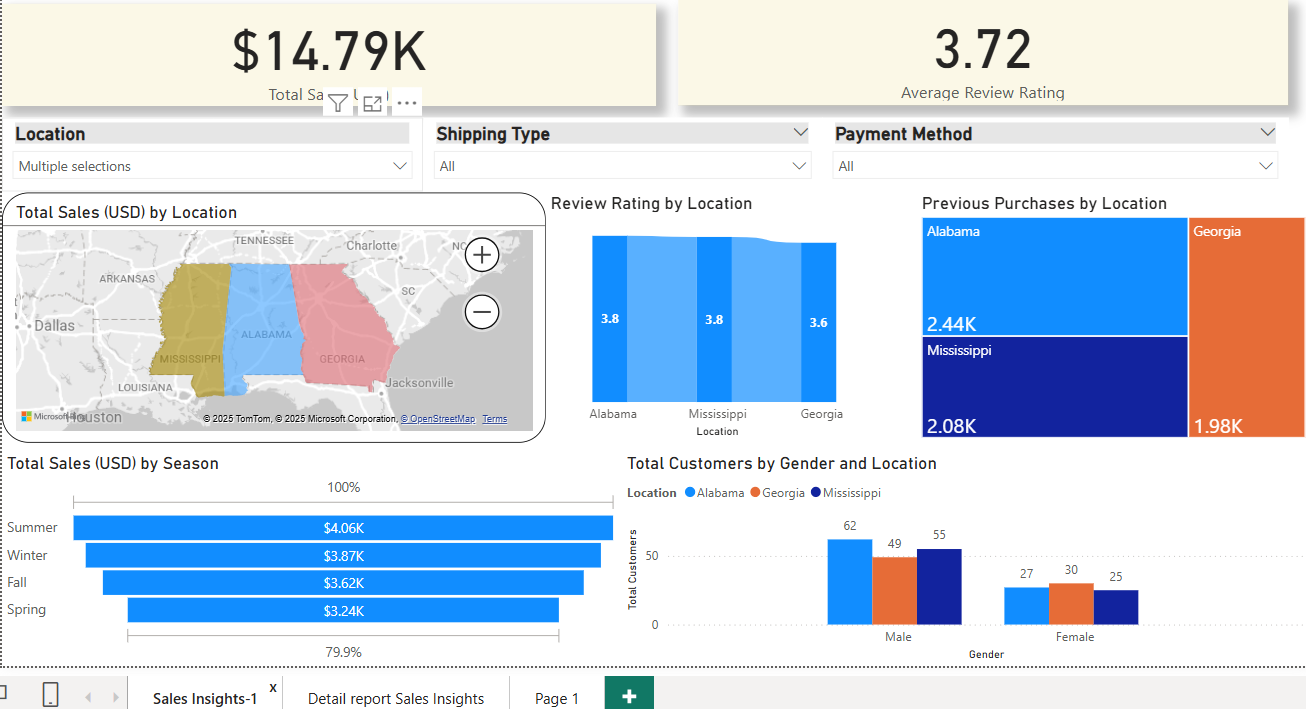

What the dashboard file says about the page in this screenshot:
{"tool":"powerbi","page":{"name":"Sales Insights-1","canvas":[1280,720],"ordinal":0},"visuals":[{"type":"textbox","box":[275.3,0,773.4,70.9],"z":0},{"type":"card","fields":{"Values":["Sum(INFO 5550 Project Data.Purchase Amount (USD))"]},"box":[0,71.7,640,100],"z":1000},{"type":"card","fields":{"Values":["Avg(INFO 5550 Project Data.Review Rating)"]},"box":[661.7,68.3,596.7,103.3],"z":2000},{"type":"filledMap","title":"Total Sales (USD) by Location","fields":{"Category":["INFO 5550 Project Data.Location"]},"box":[0,256.7,531.7,245],"z":3000},{"type":"ribbonChart","fields":{"Category":["INFO 5550 Project Data.Location"],"Y":["Avg(INFO 5550 Project Data.Review Rating)"]},"box":[531.7,256.7,336.7,245],"z":4000},{"type":"slicer","fields":{"Values":["INFO 5550 Project Data.Location"]},"box":[0,183.3,411.7,71.7],"z":5000},{"type":"slicer","fields":{"Values":["INFO 5550 Project Data.Shipping Type"]},"box":[411.7,183.3,390,66.7],"z":6000},{"type":"funnel","fields":{"Category":["INFO 5550 Project Data.Season"],"Y":["Sum(INFO 5550 Project Data.Purchase Amount (USD))"]},"box":[0,511,608,209],"z":7000},{"type":"slicer","fields":{"Values":["INFO 5550 Project Data.Payment Method"]},"box":[801.7,183.3,456.7,66.7],"z":8000},{"type":"clusteredColumnChart","fields":{"Category":["INFO 5550 Project Data.Gender"],"Y":["Count(INFO 5550 Project Data.Customer ID)"],"Series":["INFO 5550 Project Data.Location"]},"box":[606.7,511.7,673.3,208.3],"z":9000},{"type":"textbox","box":[990,6.7,250,53.3],"z":10000},{"type":"treemap","fields":{"Group":["INFO 5550 Project Data.Location"],"Values":["Sum(INFO 5550 Project Data.Previous Purchases)"]},"box":[895,256.7,385,245],"z":11000},{"type":"image","box":[0,0,125,71.7],"z":12000}]}

Visuals, with their boxes on the page's 1280x720 design canvas (x1, y1, x2, y2). These are canvas units, not pixel positions in the 1306x709 screenshot, which may show the page scaled, cropped or inside an application window:
textbox: 275/0/1049/71
card - Sum(INFO 5550 Project Data.Purchase Amount (USD)): 0/72/640/172
card - Avg(INFO 5550 Project Data.Review Rating): 662/68/1258/172
"Total Sales (USD) by Location" filledMap: 0/257/532/502
ribbonChart - INFO 5550 Project Data.Location x Avg(INFO 5550 Project Data.Review Rating): 532/257/868/502
slicer - INFO 5550 Project Data.Location: 0/183/412/255
slicer - INFO 5550 Project Data.Shipping Type: 412/183/802/250
funnel - INFO 5550 Project Data.Season x Sum(INFO 5550 Project Data.Purchase Amount (USD)): 0/511/608/720
slicer - INFO 5550 Project Data.Payment Method: 802/183/1258/250
clusteredColumnChart - INFO 5550 Project Data.Gender x Count(INFO 5550 Project Data.Customer ID): 607/512/1280/720
textbox: 990/7/1240/60
treemap - INFO 5550 Project Data.Location x Sum(INFO 5550 Project Data.Previous Purchases): 895/257/1280/502
image: 0/0/125/72
